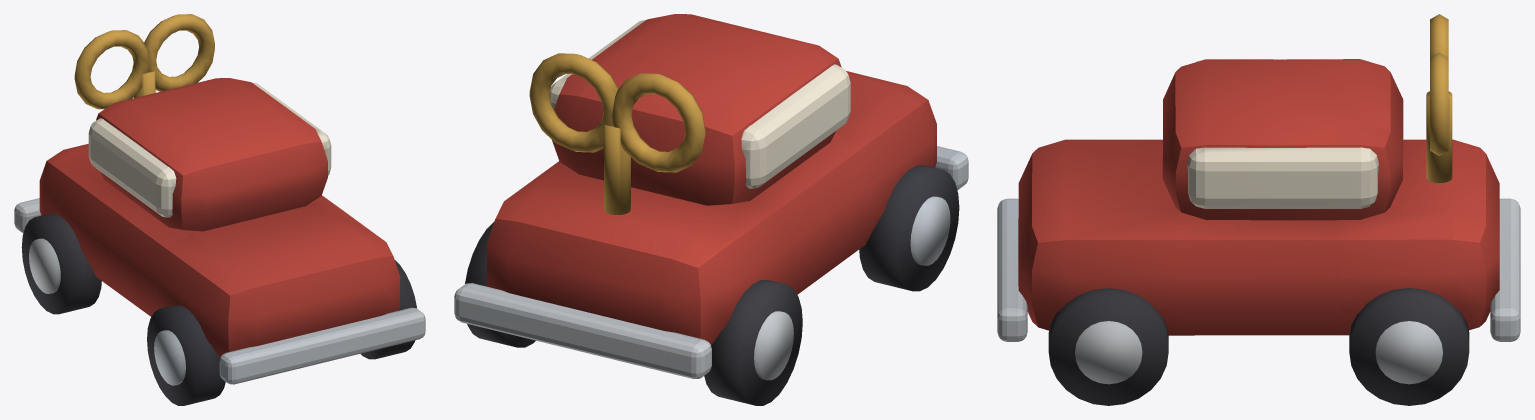
Rendered from den_windup_car.glb.
3 renders of one model, left to right at view 1: azimuth 30°, elevation 25°; view 2: azimuth 150°, elevation 25°; view 3: azimuth 270°, elevation 25°, orthographic. The views are drawn at different scales.
Visible parts, largest first — view 1: den_windup_car; view 2: den_windup_car; view 3: den_windup_car.
Boxes of the visible parts, bbox=[...] form: den_windup_car: bbox=[14, 14, 425, 405]; den_windup_car: bbox=[454, 14, 968, 405]; den_windup_car: bbox=[997, 14, 1520, 405].
Bounding box in the file's own units: 2.64 × 2.78 × 4.35.
